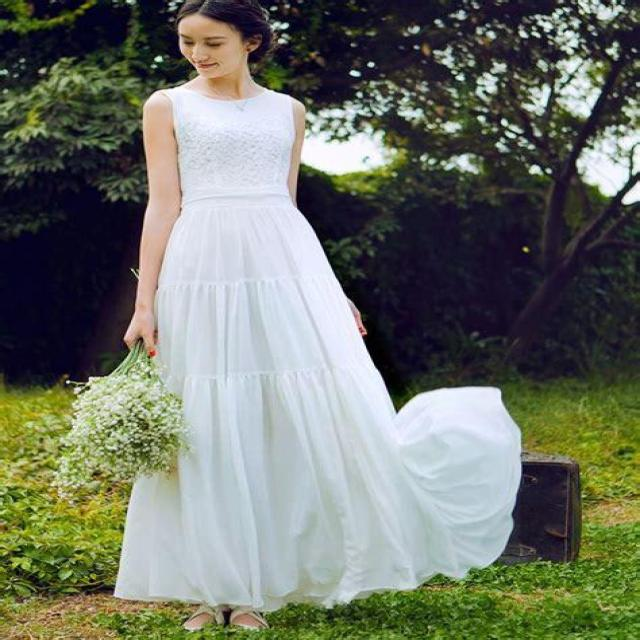dress: (115, 87, 525, 612)
